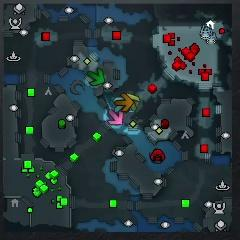x1: (108, 109, 123, 125)
x2: (126, 93, 141, 112)
x3: (113, 97, 125, 112)
x4: (87, 69, 104, 85)
x5: (116, 93, 133, 112)
